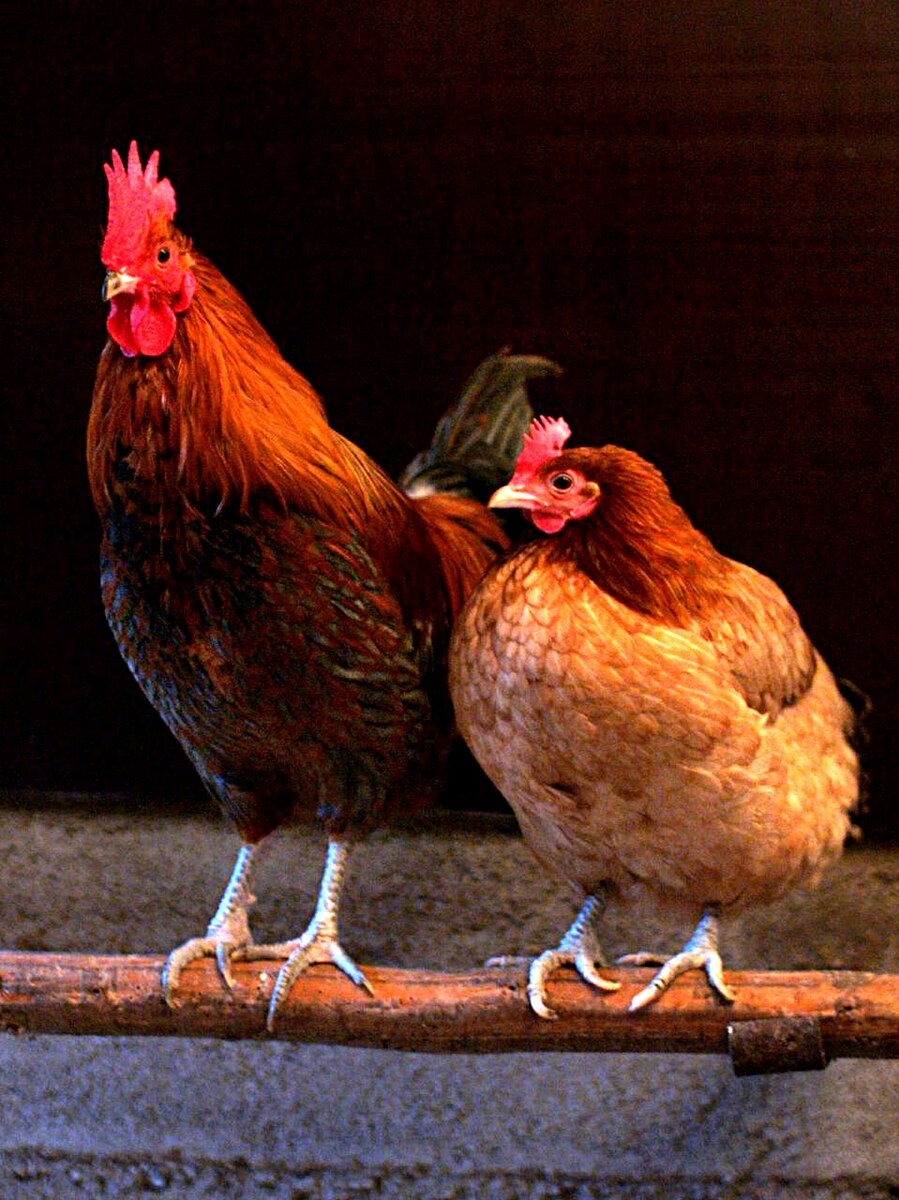Healthy: (50, 114, 319, 480), (480, 383, 709, 595)
